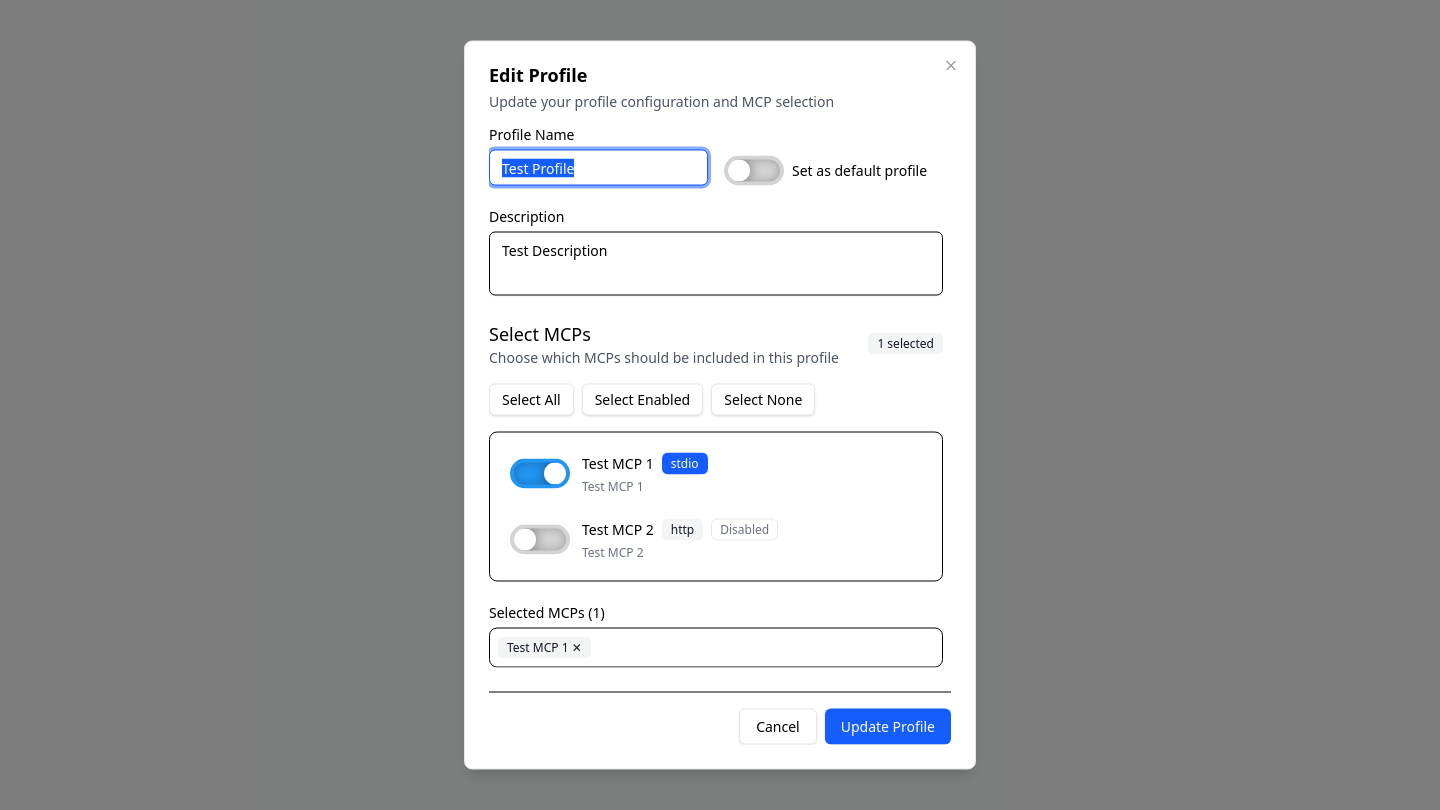
Test: ProfileDialog Component › MCP Selection › should handle Select None functionality
Check: the text "1 selected" is shown, box x1=868 y1=332 x2=943 y2=354
Click the button "Select None": (763, 400) x1=711 y1=384 x2=815 y2=416
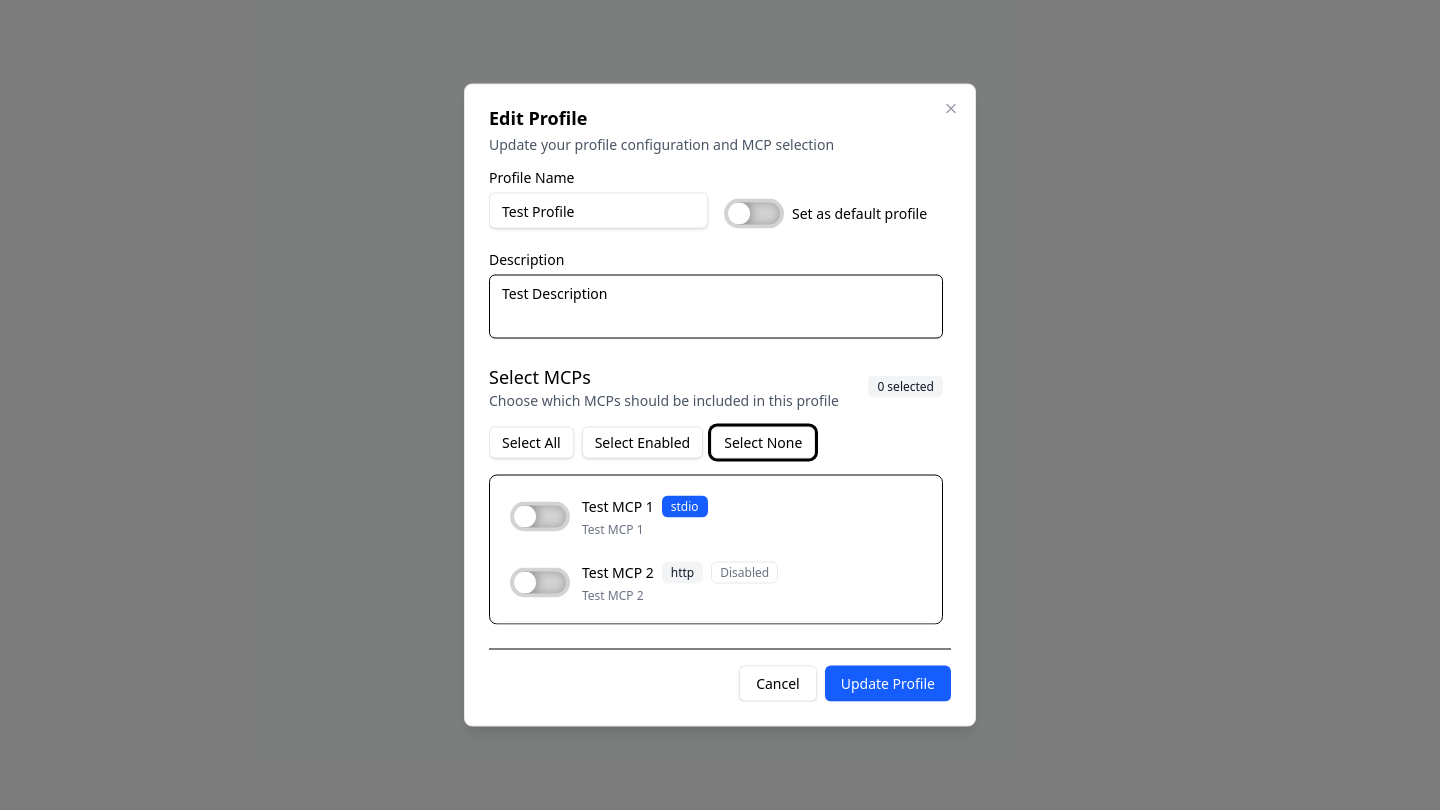
Check: the text "0 selected" is shown, box x1=868 y1=376 x2=943 y2=398
